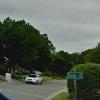Tree: (2, 8, 53, 71)
